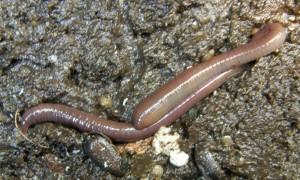earthworms: (19, 14, 292, 150)
